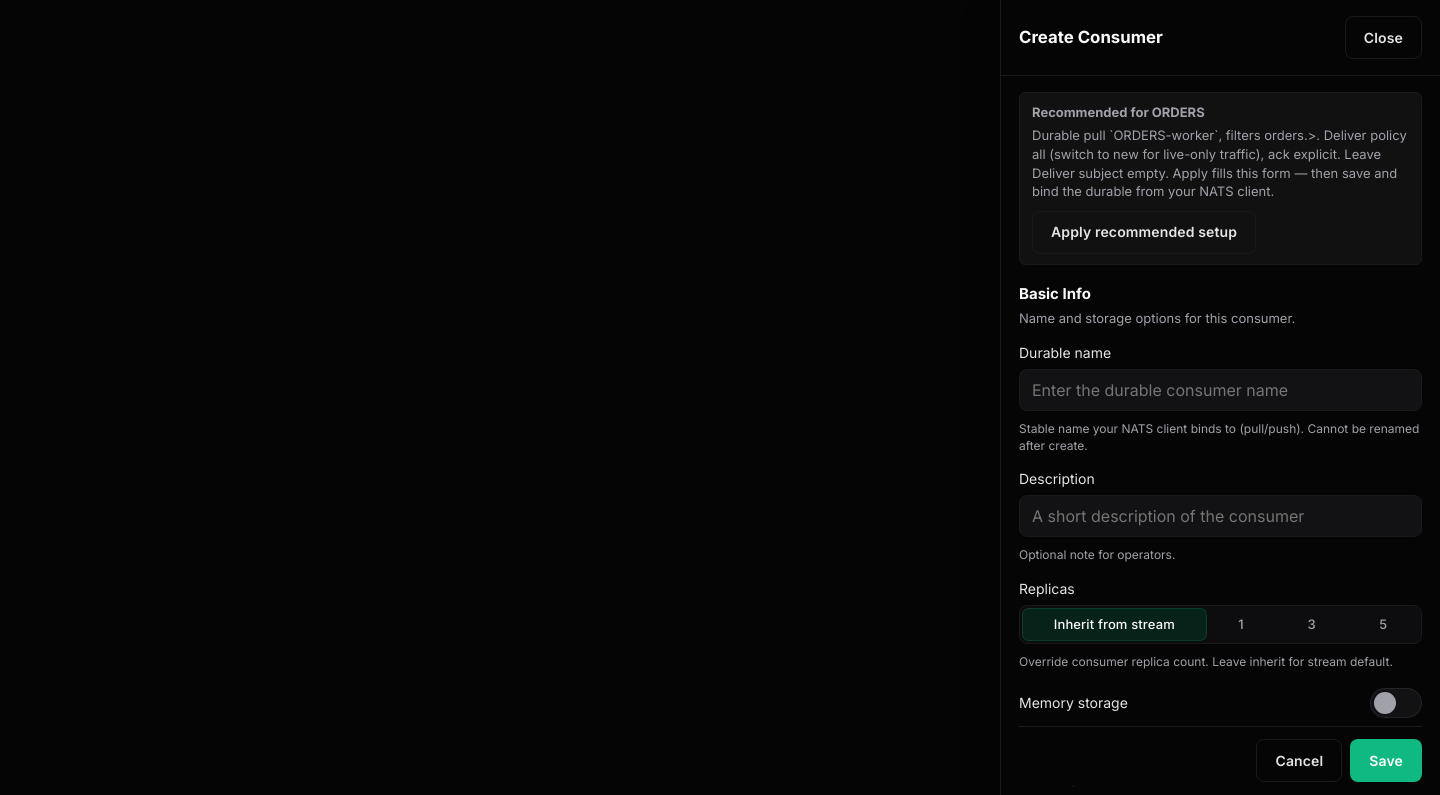
Test case: CreateConsumerPanel › Apply recommended setup fills durable name and filters from stream
The width and height of the screenshot is (1440, 795).
Expected: the heading "Create Consumer" is shown, [1019,25,1163,50]
Click the button "Apply recommended setup" at (1144, 232), box [1032,211,1256,254]
(page scrolled)
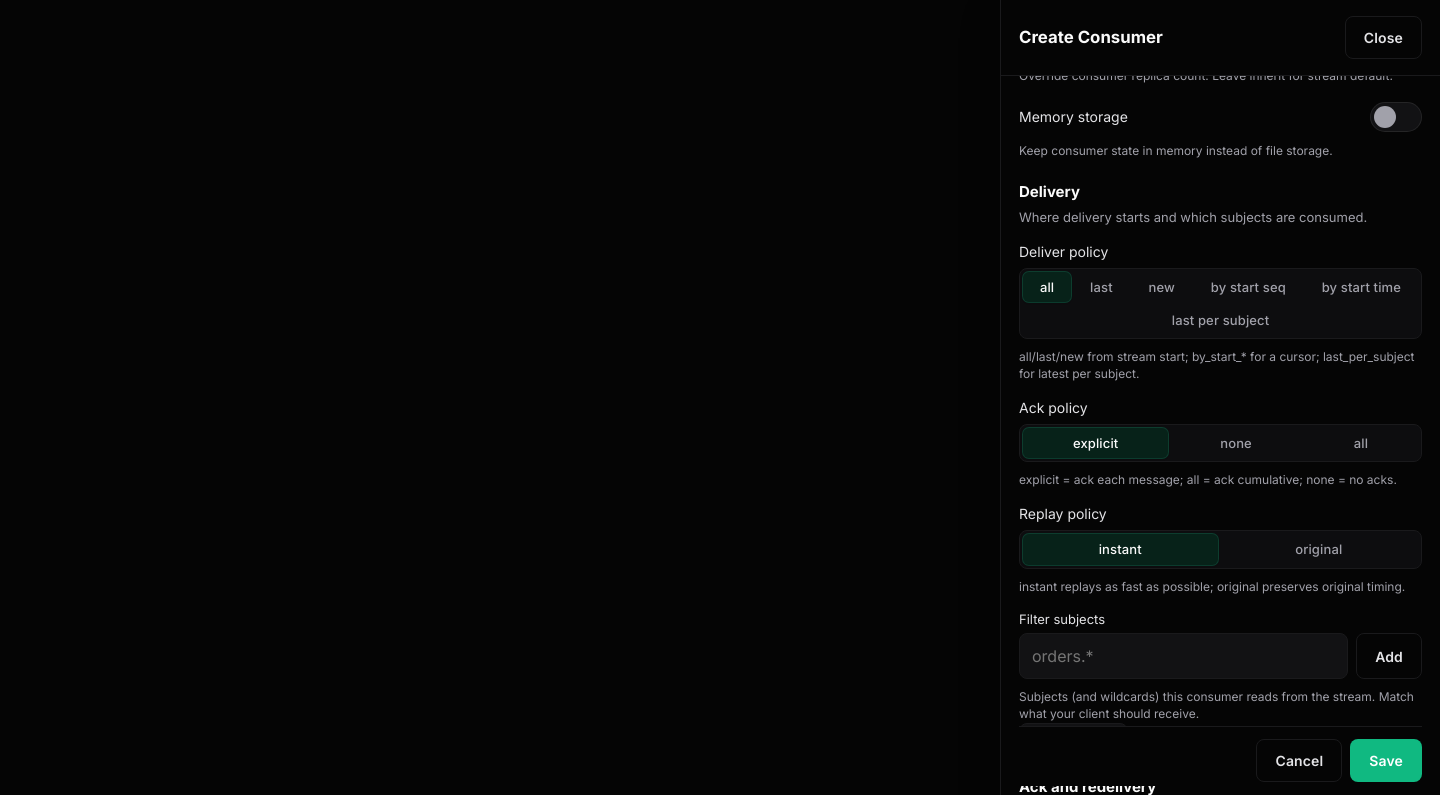
Expected: the button "all" below "Deliver policy" is shown, [1023,272,1071,302]
Expected: the button "explicit" is shown, [1023,428,1168,458]
